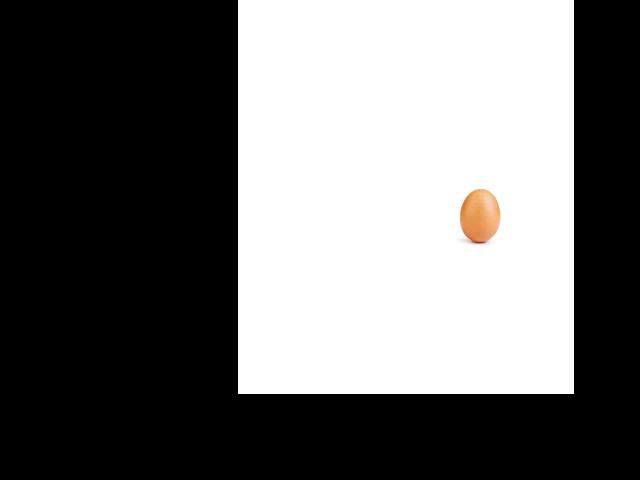egg: (459, 189, 499, 242)
